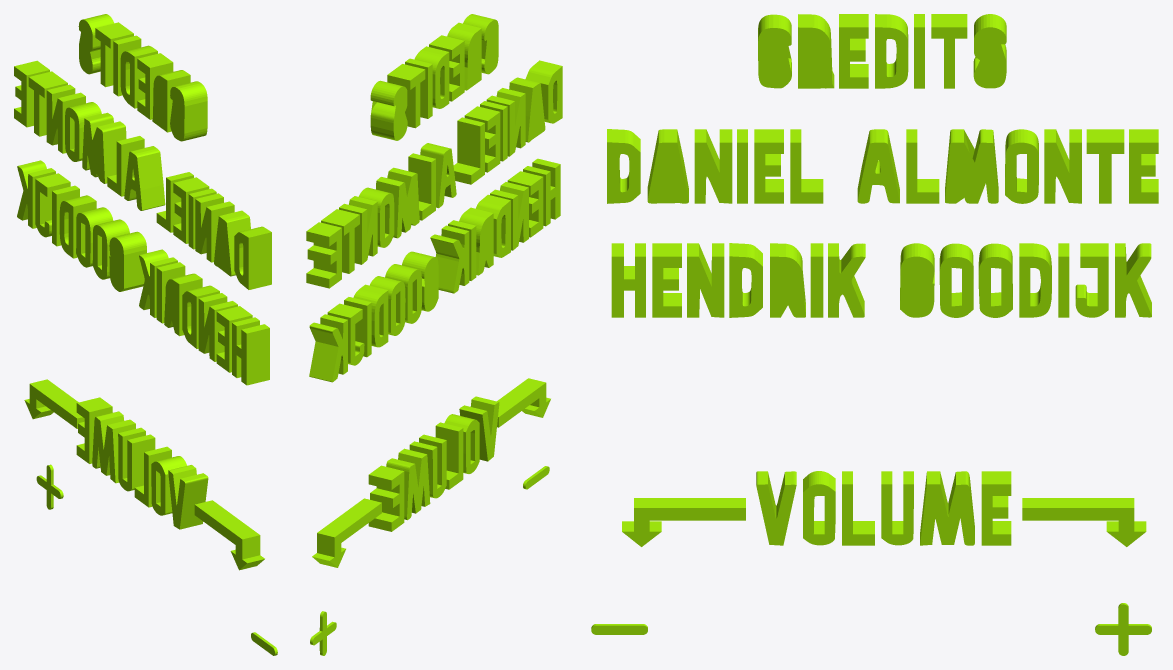
File: OptionsCredits.fbx
3 views of the same model, side by side, from view 1: azimuth 30°, elevation 25°; view 2: azimuth 150°, elevation 25°; view 3: azimuth 270°, elevation 25° (orthographic). The views are drawn at different scales.
Parts seen in each view (by area): view 1: DanielAlmonte, HendrikGoodijk, Credits, Volume, ArrowRight.001, ArrowLeft.001, Plus.001; view 2: DanielAlmonte, HendrikGoodijk, Credits, Volume, ArrowLeft.001, ArrowRight.001, Plus.001; view 3: HendrikGoodijk, DanielAlmonte, Credits, Volume, ArrowLeft.001, ArrowRight.001, Plus.001.
Boxes of the visible parts, box(x1,y1,x2,y2) form: DanielAlmonte: box(14, 60, 271, 289); HendrikGoodijk: box(17, 160, 269, 385); Credits: box(78, 14, 207, 141); Volume: box(76, 397, 208, 529); ArrowRight.001: box(194, 500, 264, 570); ArrowLeft.001: box(24, 379, 84, 428); Plus.001: box(36, 464, 63, 509); DanielAlmonte: box(306, 60, 562, 288); HendrikGoodijk: box(309, 158, 560, 382); Credits: box(370, 14, 498, 140); Volume: box(368, 396, 499, 531); ArrowLeft.001: box(312, 498, 381, 567); ArrowRight.001: box(497, 378, 550, 427); Plus.001: box(310, 611, 336, 655); HendrikGoodijk: box(611, 243, 1151, 317); DanielAlmonte: box(607, 129, 1158, 203); Credits: box(758, 14, 1006, 88); Volume: box(756, 471, 1011, 545); ArrowLeft.001: box(1022, 498, 1146, 546); ArrowRight.001: box(622, 498, 745, 546); Plus.001: box(1095, 603, 1151, 655).
Size of the model in its own units: 12.5 by 276 by 225.
